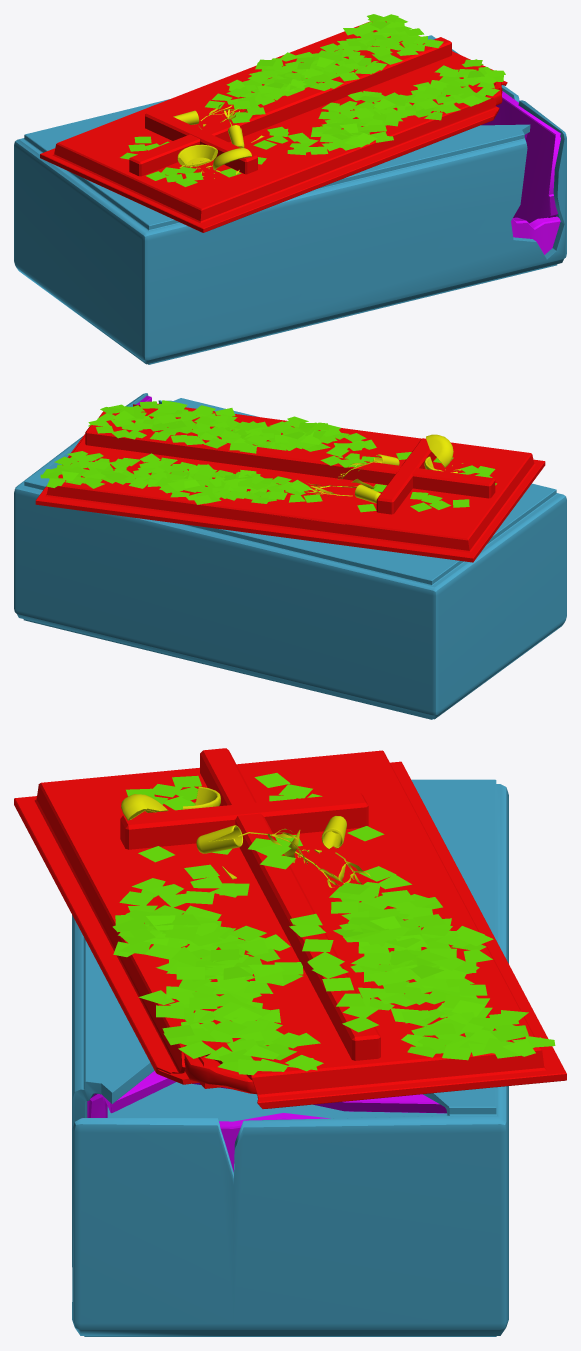
File: uploads_files_2558507_Stone_Coffin_FBX.fbx
The picture shows the model from 3 angles, top to bottom: view 1: azimuth 30°, elevation 25°; view 2: azimuth 150°, elevation 25°; view 3: azimuth 270°, elevation 25°; orthographic projection. The views are drawn at different scales.
Parts seen in each view (by area): view 1: Stone_coffin; view 2: Stone_coffin; view 3: Stone_coffin.
Boxes of the visible parts, bbox=[...] form: Stone_coffin: bbox=[14, 14, 566, 364]; Stone_coffin: bbox=[14, 393, 566, 719]; Stone_coffin: bbox=[14, 748, 566, 1336].
Bounding box in the file's own units: 201 × 79.26 × 135.
